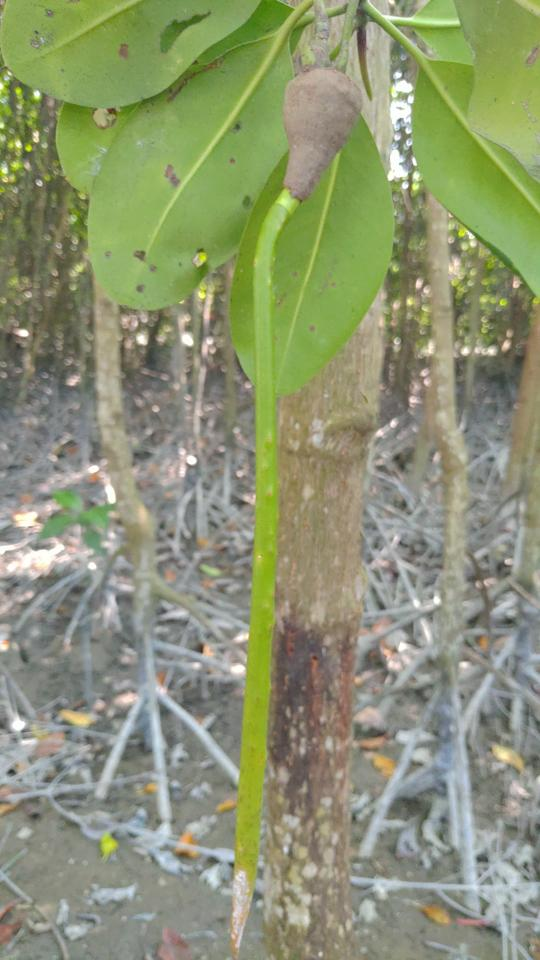setengah matang: (210, 41, 374, 947)
